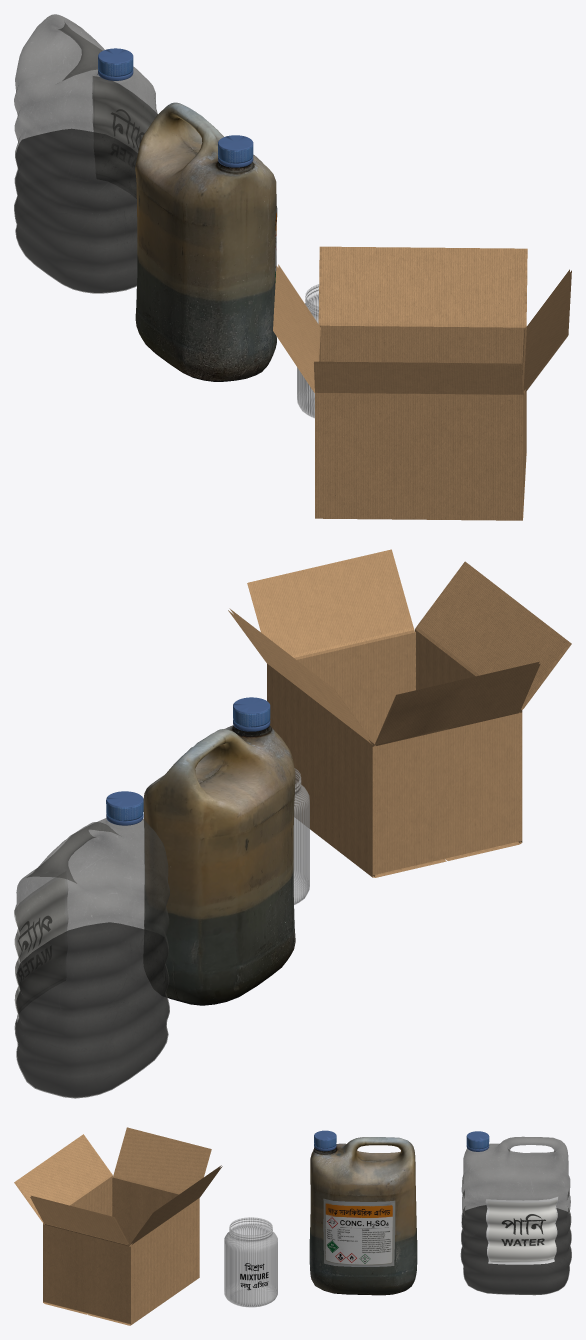
The model's file is Jar1.glb.
The picture shows the model from 3 angles, top to bottom: view 1: azimuth 30°, elevation 25°; view 2: azimuth 150°, elevation 25°; view 3: azimuth 270°, elevation 25°; orthographic projection. The views are drawn at different scales.
Visible parts, largest first — view 1: Cardboard Box_MainMat_0, model_diffuse-material, model_diffuse-material.002, model_diffuse-material.001, _gltfNode_6.001, _gltfNode_6.002, defaultMaterial.002; view 2: Cardboard Box_MainMat_0, model_diffuse-material.002, model_diffuse-material, model_diffuse-material.001, defaultMaterial.002, _gltfNode_6.002, _gltfNode_6.001; view 3: Cardboard Box_MainMat_0, model_diffuse-material.002, model_diffuse-material, model_diffuse-material.001, defaultMaterial.002, _gltfNode_6.001, _gltfNode_6.002, defaultMaterial.001.
Boxes of the visible parts, x1,y1,x2,y2 form: Cardboard Box_MainMat_0: (273,246,571,520); model_diffuse-material: (135,102,277,381); model_diffuse-material.002: (14,14,157,293); model_diffuse-material.001: (15,129,137,292); _gltfNode_6.001: (98,48,133,80); _gltfNode_6.002: (218,135,253,167); defaultMaterial.002: (297,284,318,418); Cardboard Box_MainMat_0: (228,549,571,877); model_diffuse-material.002: (14,818,169,1098); model_diffuse-material: (143,725,295,1005); model_diffuse-material.001: (15,922,168,1097); defaultMaterial.002: (293,768,309,904); _gltfNode_6.002: (233,697,270,731); _gltfNode_6.001: (106,791,143,825); Cardboard Box_MainMat_0: (14,1127,222,1325); model_diffuse-material.002: (460,1136,571,1295); model_diffuse-material: (309,1137,417,1295); model_diffuse-material.001: (461,1205,570,1294); defaultMaterial.002: (224,1217,277,1307); _gltfNode_6.001: (466,1131,489,1151); _gltfNode_6.002: (314,1130,336,1151); defaultMaterial.001: (240,1263,268,1290).
Bounding box in the file's own units: 0.3833 × 0.2966 × 1.01.
9 materials, 9 textured.
